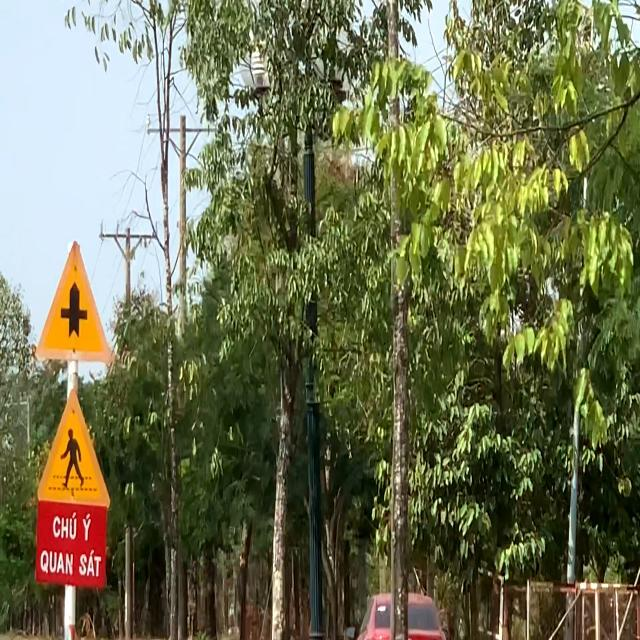Giao nhau voi duong khong uu tien: (33, 238, 114, 367)
Nguoi di bo cat ngang: (34, 384, 112, 510)
